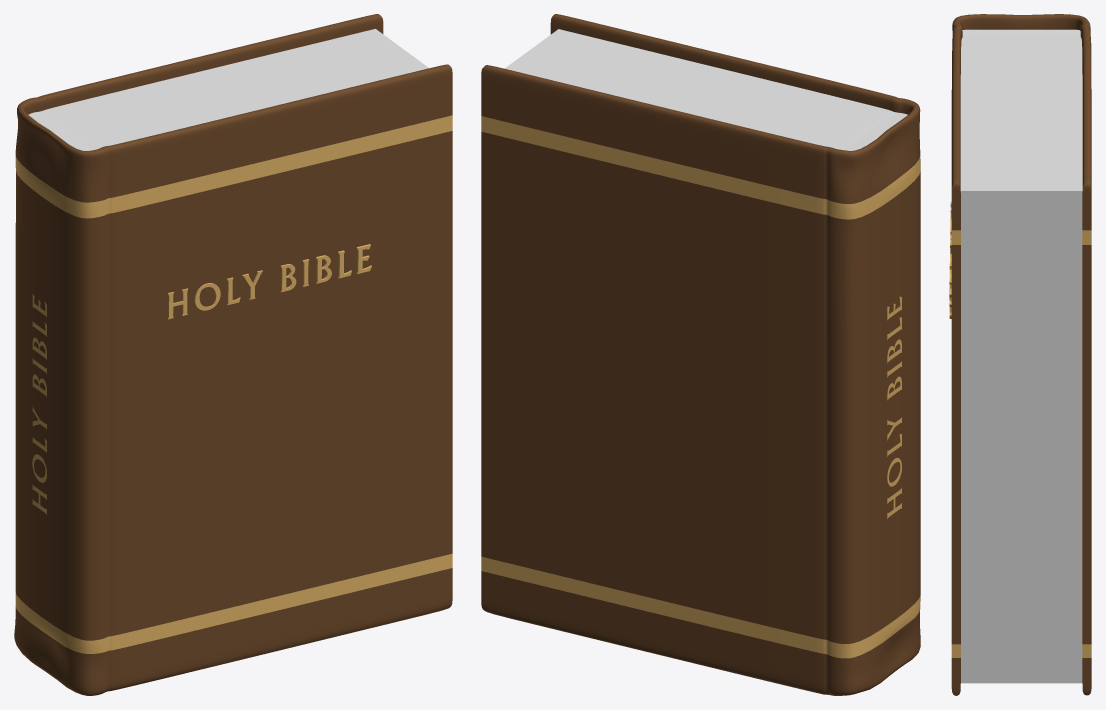
The model's file is Bible.fbx.
3 renders of one model, left to right at view 1: azimuth 30°, elevation 25°; view 2: azimuth 150°, elevation 25°; view 3: azimuth 270°, elevation 25°, orthographic. The views are drawn at different scales.
Parts seen in each view (by area): view 1: Leather Holy Bible Model; view 2: Leather Holy Bible Model; view 3: Leather Holy Bible Model.
Boxes of the visible parts, bbox=[...] form: Leather Holy Bible Model: bbox=[14, 14, 452, 695]; Leather Holy Bible Model: bbox=[481, 14, 920, 695]; Leather Holy Bible Model: bbox=[949, 14, 1091, 695].
Bounding box in the file's own units: 19.35 × 26.85 × 6.74.
